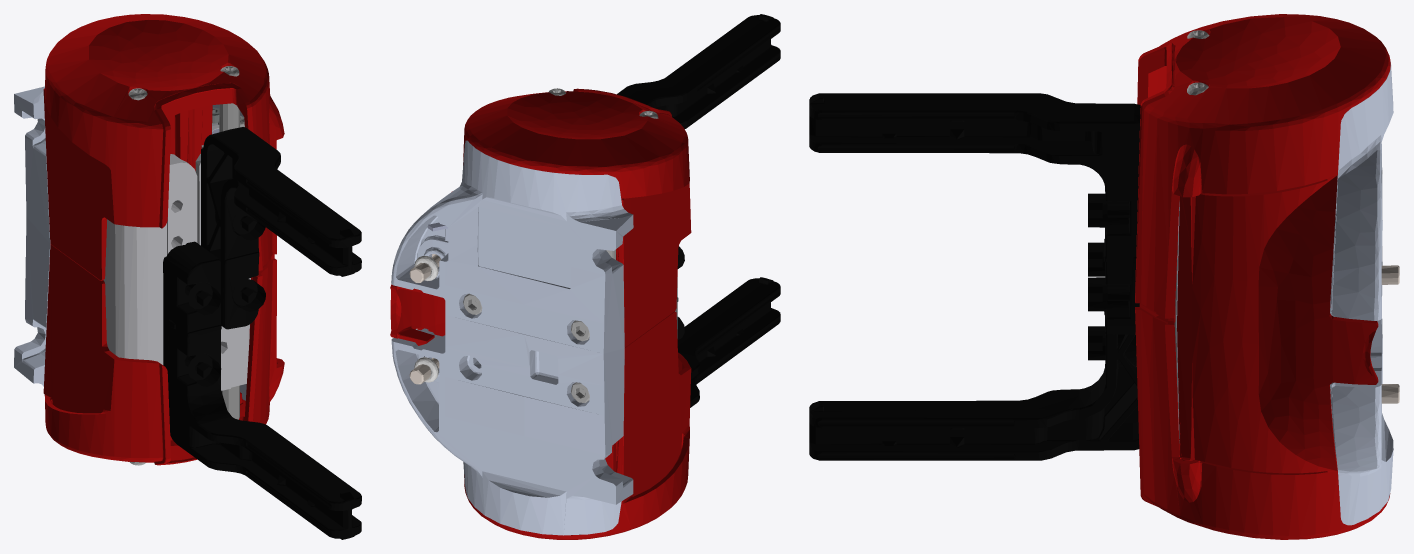
File: gripper_base.obj
The picture shows the model from 3 angles, left to right: view 1: azimuth 30°, elevation 25°; view 2: azimuth 150°, elevation 25°; view 3: azimuth 270°, elevation 25°; orthographic projection. The views are drawn at different scales.
Visible parts, largest first — view 1: _0030517_003-mesh; view 2: _0030517_003-mesh; view 3: _0030517_003-mesh.
Boxes of the visible parts, x1,y1,x2,y2 form: _0030517_003-mesh: (14, 14, 361, 539); _0030517_003-mesh: (390, 14, 780, 539); _0030517_003-mesh: (809, 14, 1399, 539).
Size of the model in its own units: 0.066 by 0.1055 by 0.1218.
